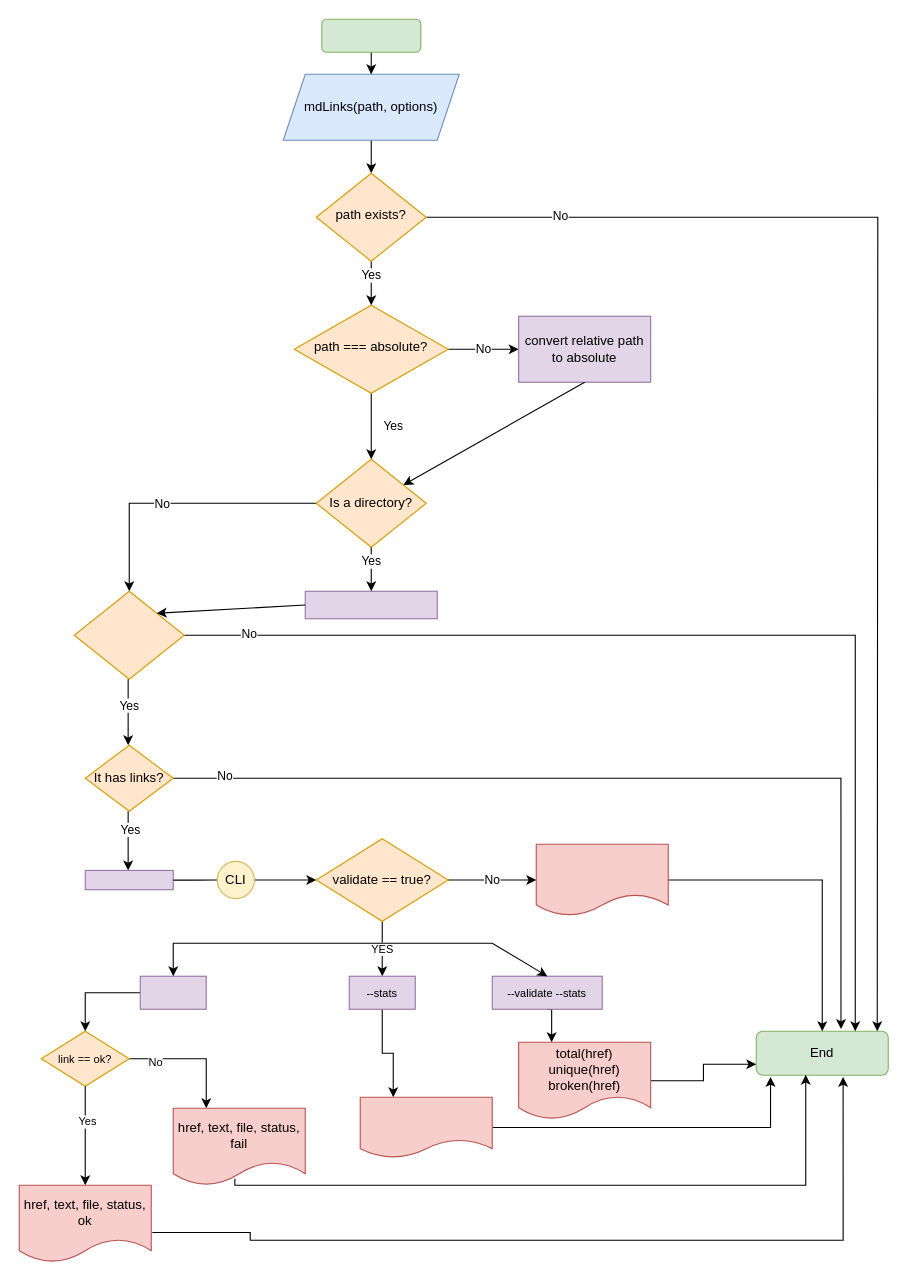
This 908x1282 diagram has some shape labels left out. The shapes that lost their labels are listed below. From the top down, each one's box as (x1, y1, x2, y2) in pixels, then its label:
(321, 18, 421, 52): Start
(304, 590, 437, 619): directory.forEach(file)
(73, 590, 184, 679): Is a .md file?
(84, 869, 173, 890): array[links]
(535, 843, 668, 916): validate == false href, text , file
(139, 975, 206, 1009): --validate
(359, 1096, 492, 1158): total(href) unique(href)
